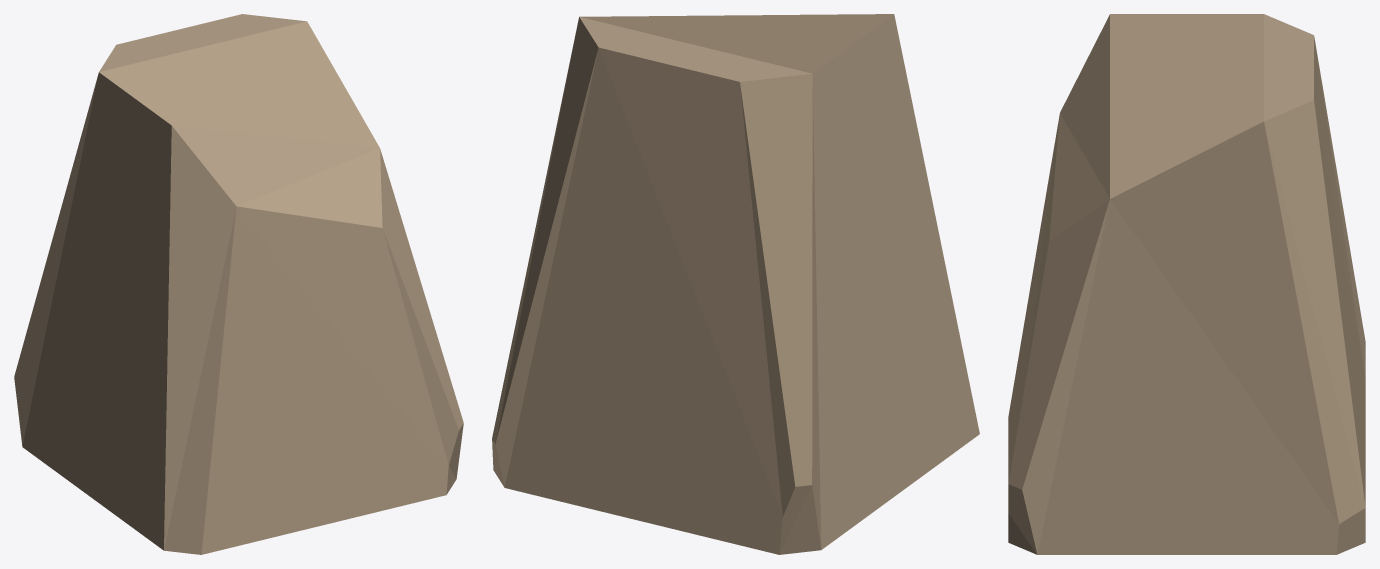
Rendered from Cube Block_1.fbx.
3 views of the same model, side by side, from view 1: azimuth 30°, elevation 25°; view 2: azimuth 150°, elevation 25°; view 3: azimuth 270°, elevation 25° (orthographic). The views are drawn at different scales.
Parts seen in each view (by area): view 1: Cube Block_1; view 2: Cube Block_1; view 3: Cube Block_1.
Boxes of the visible parts, box(x1,y1,x2,y2) form: Cube Block_1: box(14, 14, 463, 554); Cube Block_1: box(492, 14, 979, 554); Cube Block_1: box(1008, 14, 1365, 554).
Bounding box in the file's own units: 0.7577 × 0.9642 × 0.7577.
